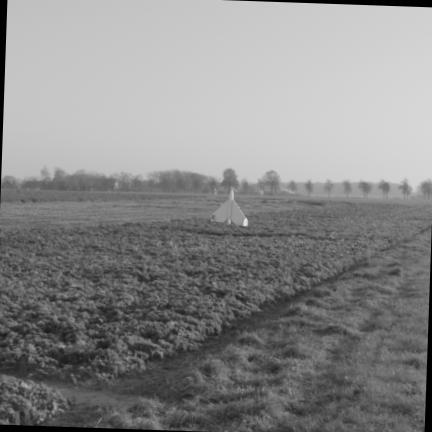Shahed: (211, 191, 248, 226)
